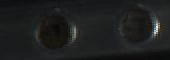joints: (118, 1, 160, 45), (34, 9, 78, 50)
